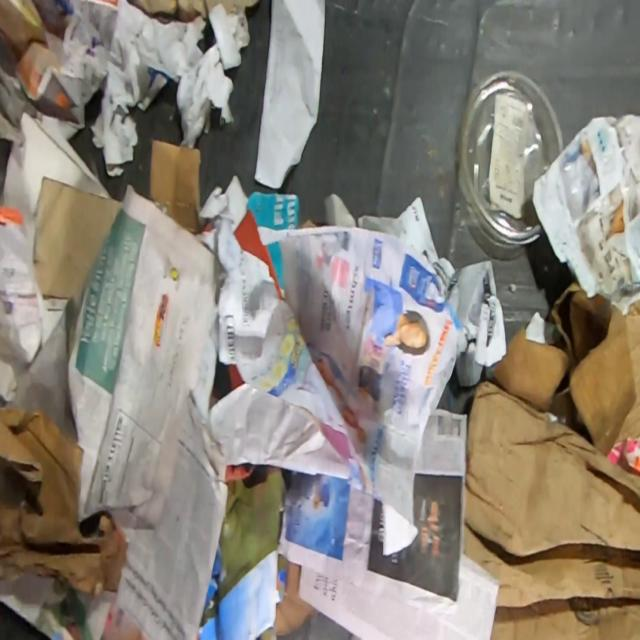cardboard: (463, 379, 640, 640), (492, 281, 640, 457), (0, 406, 128, 596), (33, 176, 125, 309), (149, 138, 202, 236), (274, 560, 319, 636)
rigid_plastic: (456, 68, 563, 248)
